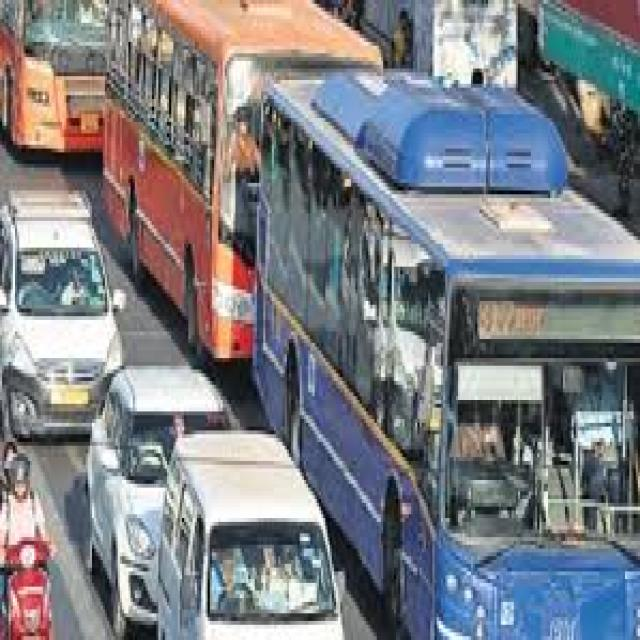bus: (253, 72, 638, 640), (103, 0, 379, 358), (0, 0, 103, 152)
car: (86, 366, 231, 636), (158, 434, 342, 640), (0, 190, 124, 438)
motorcycle: (6, 537, 49, 640)
person: (6, 453, 43, 545)
